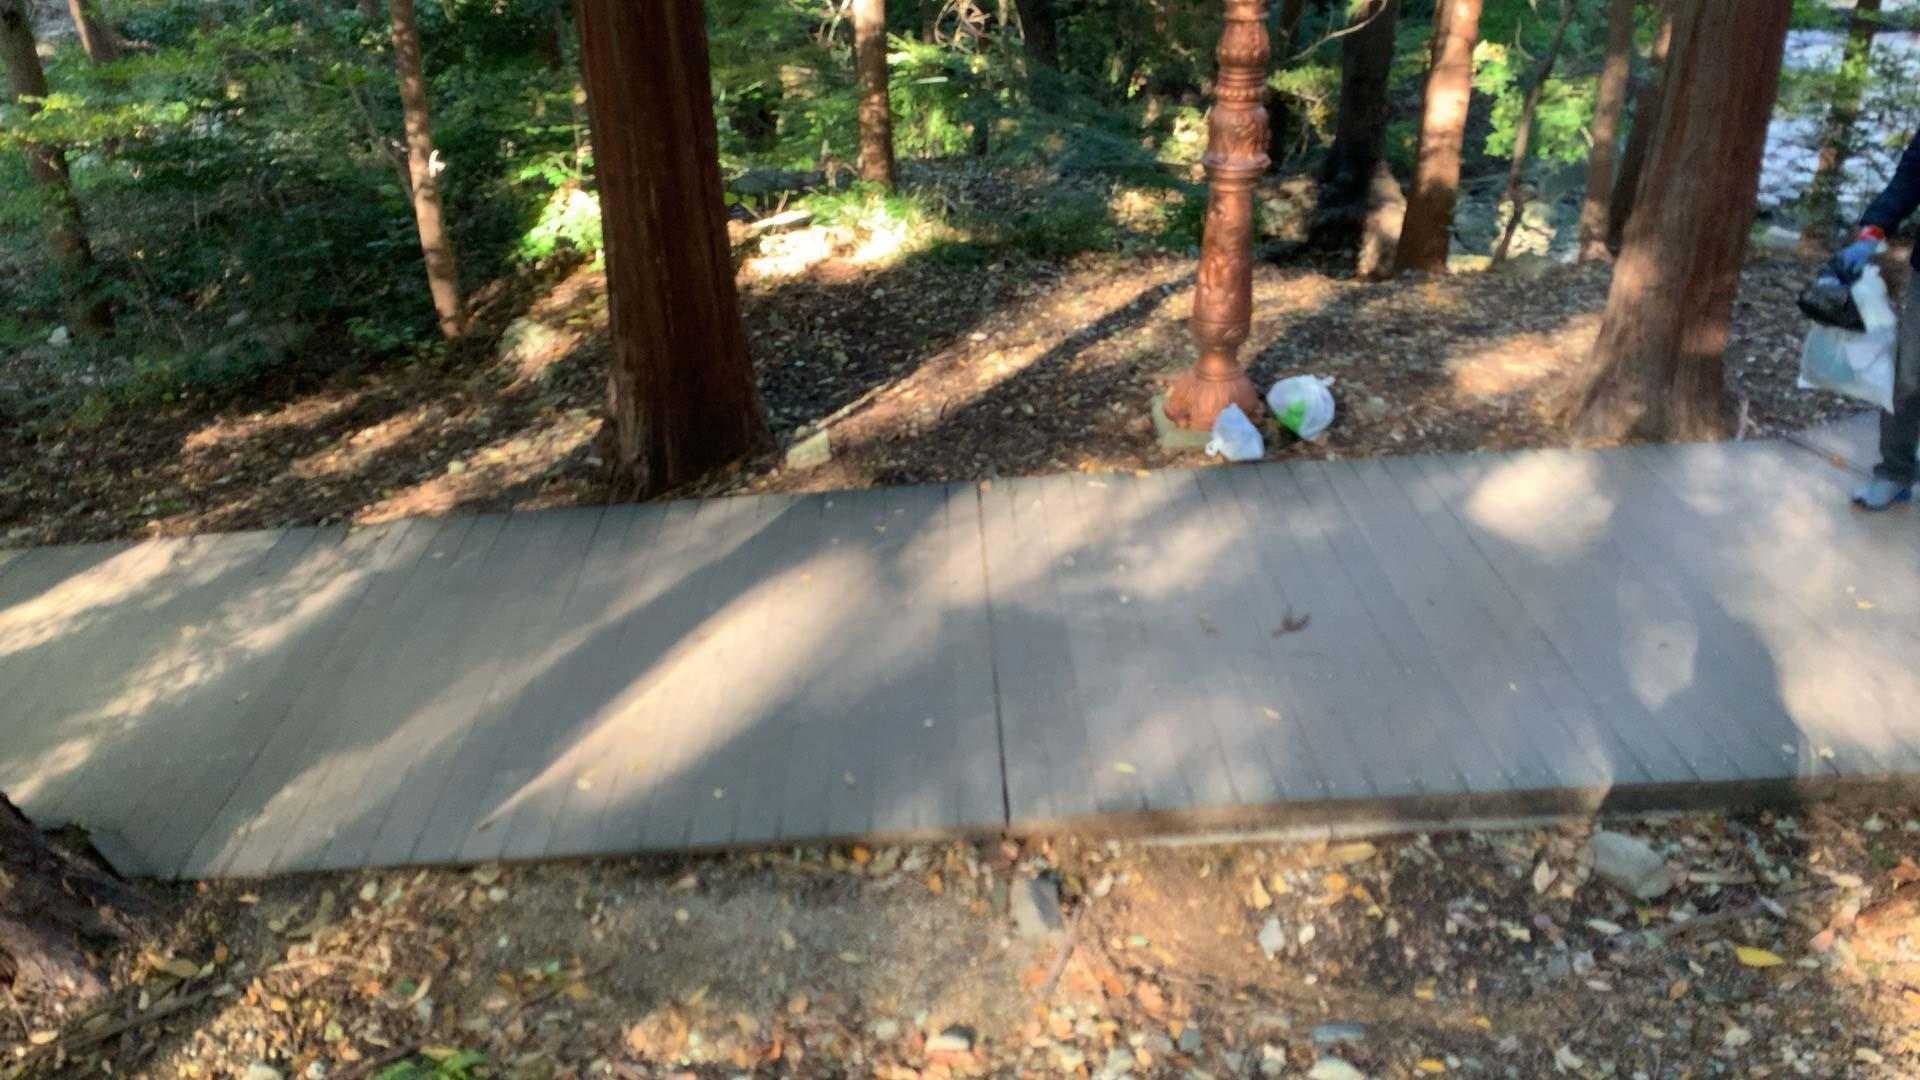white_bag: (1785, 255, 1911, 418), (1262, 365, 1354, 444), (1799, 255, 1871, 334), (1193, 401, 1267, 467)
